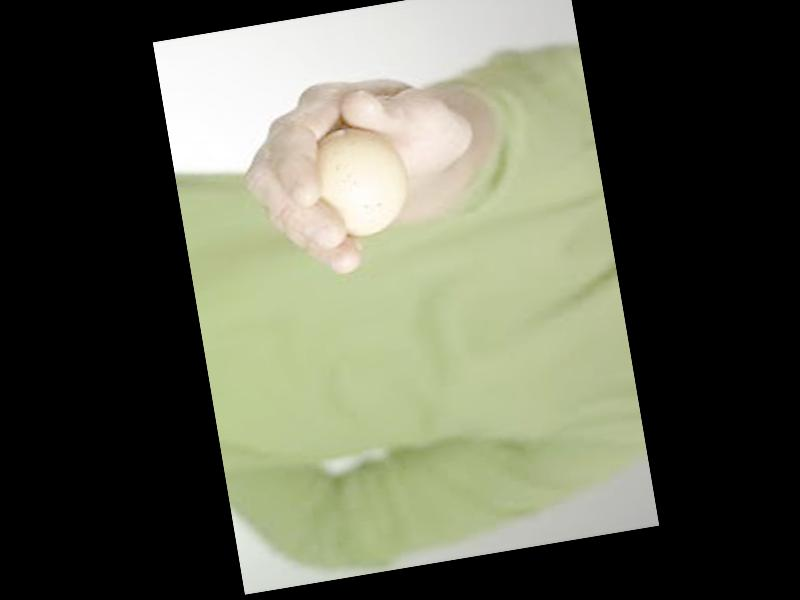Eggs: (309, 121, 414, 242)
